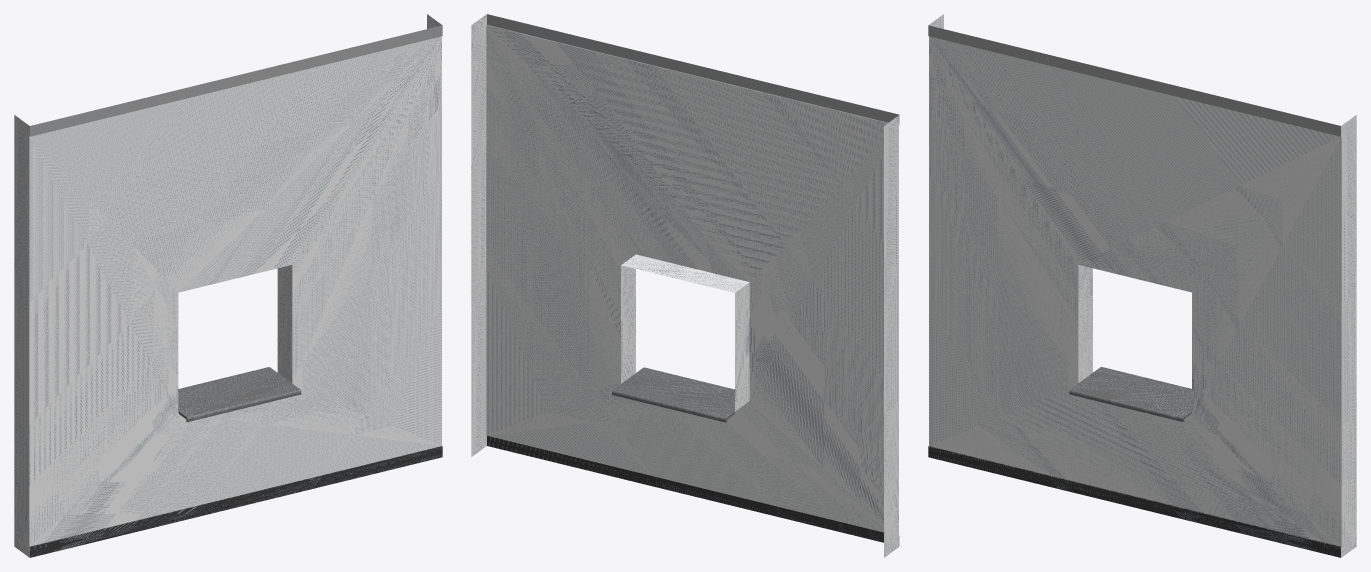
The model's file is BlockWall_Sluise_ds_plinth[400x400x025]_112x110x[100].dae.
3 renders of one model, left to right at view 1: azimuth 30°, elevation 25°; view 2: azimuth 150°, elevation 25°; view 3: azimuth 330°, elevation 25°, orthographic.
Parts seen in each view (by area): view 1: group_0 (×5); view 2: group_0 (×5); view 3: group_0 (×5).
Boxes of the visible parts, left/top/right/bottom form: group_0 (×5): left=14, top=14, right=442, bottom=557; group_0 (×5): left=471, top=14, right=899, bottom=557; group_0 (×5): left=928, top=14, right=1356, bottom=557.
Bounding box in the file's own units: 157 × 21.65 × 157.
